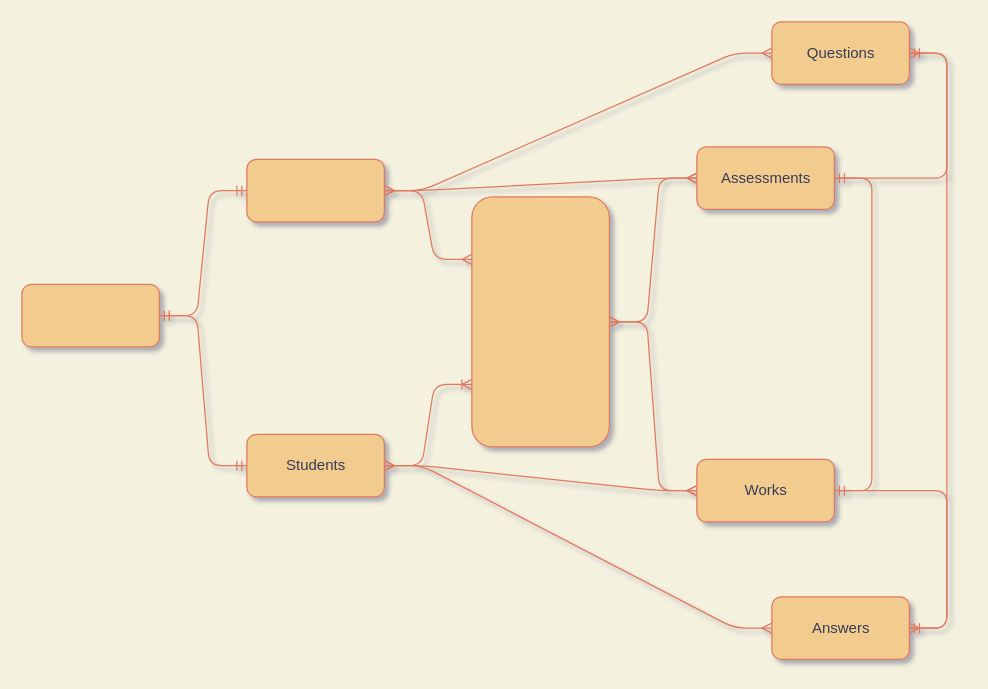
Image size: 988x689. Some labels were removed from this diagram. The shapes that lost their labels are listed below. From the top down, each one's centre as x and y in pixels, then its label:
point 315,190: Instructor
point 90,315: Users
point 540,321: Classes
